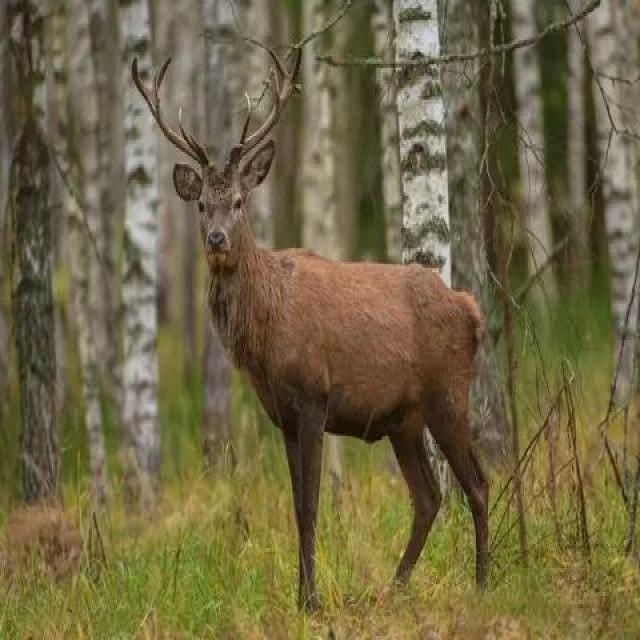deer: (168, 120, 545, 616)
